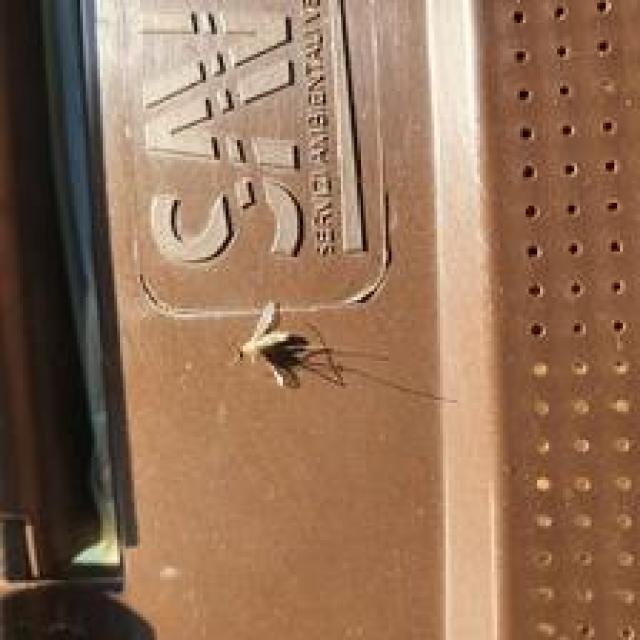Culex: (236, 300, 347, 391)
